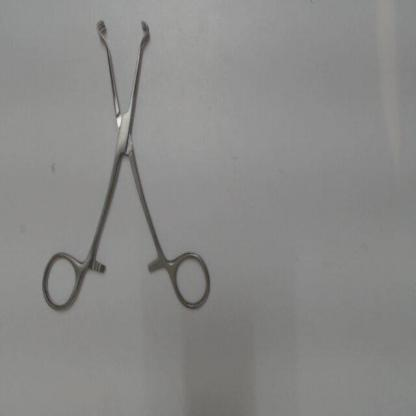Babcock Tissue Forceps: (39, 14, 220, 320)
